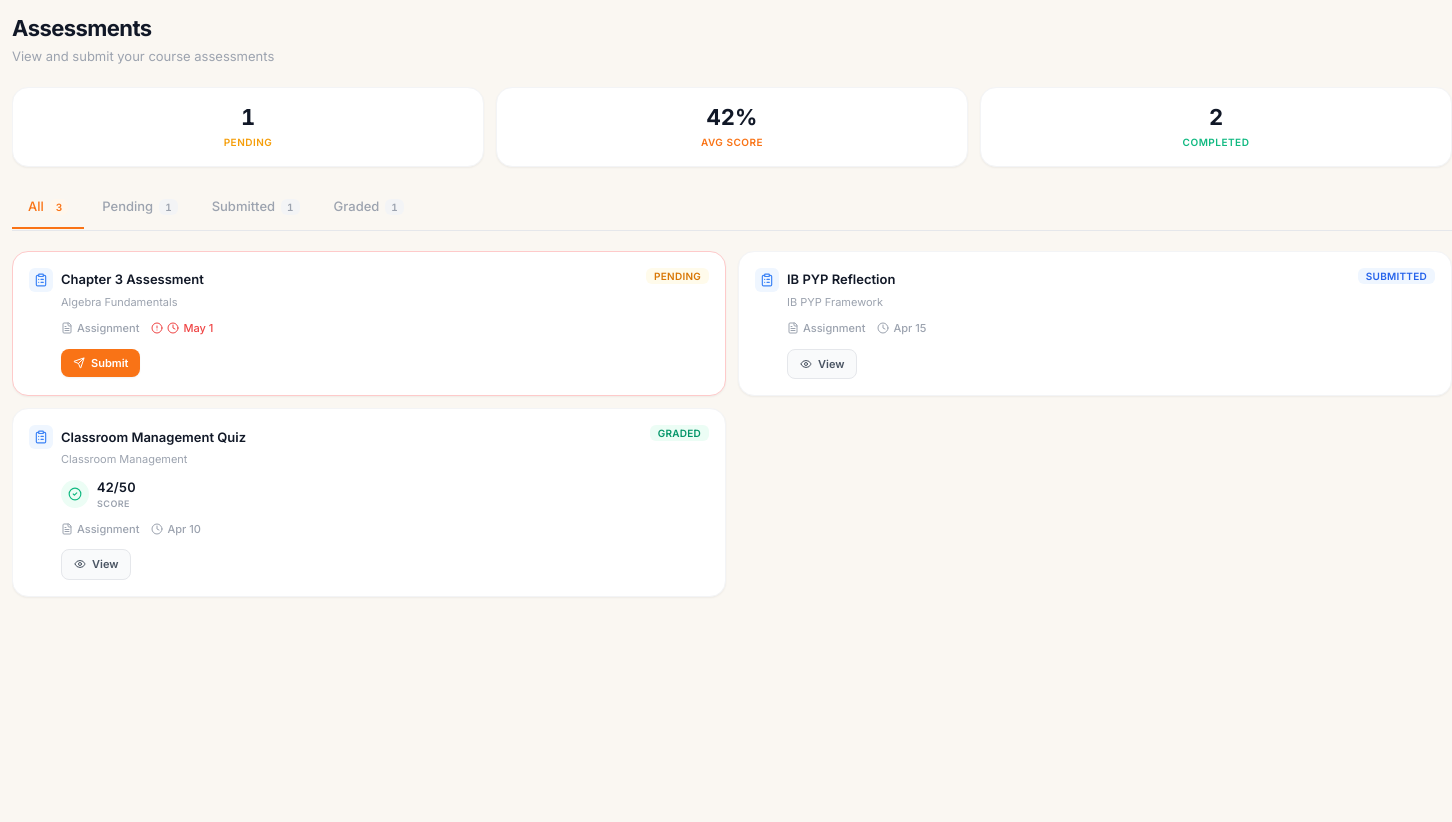
Scenario: AssignmentsPage › Tab filtering › clicking "Graded" tab shows only the graded assignment
Expected: the heading "Classroom Management Quiz" is shown, [61,429,246,445]
Click the button "Graded1": x=369, y=208 [318,187,420,228]
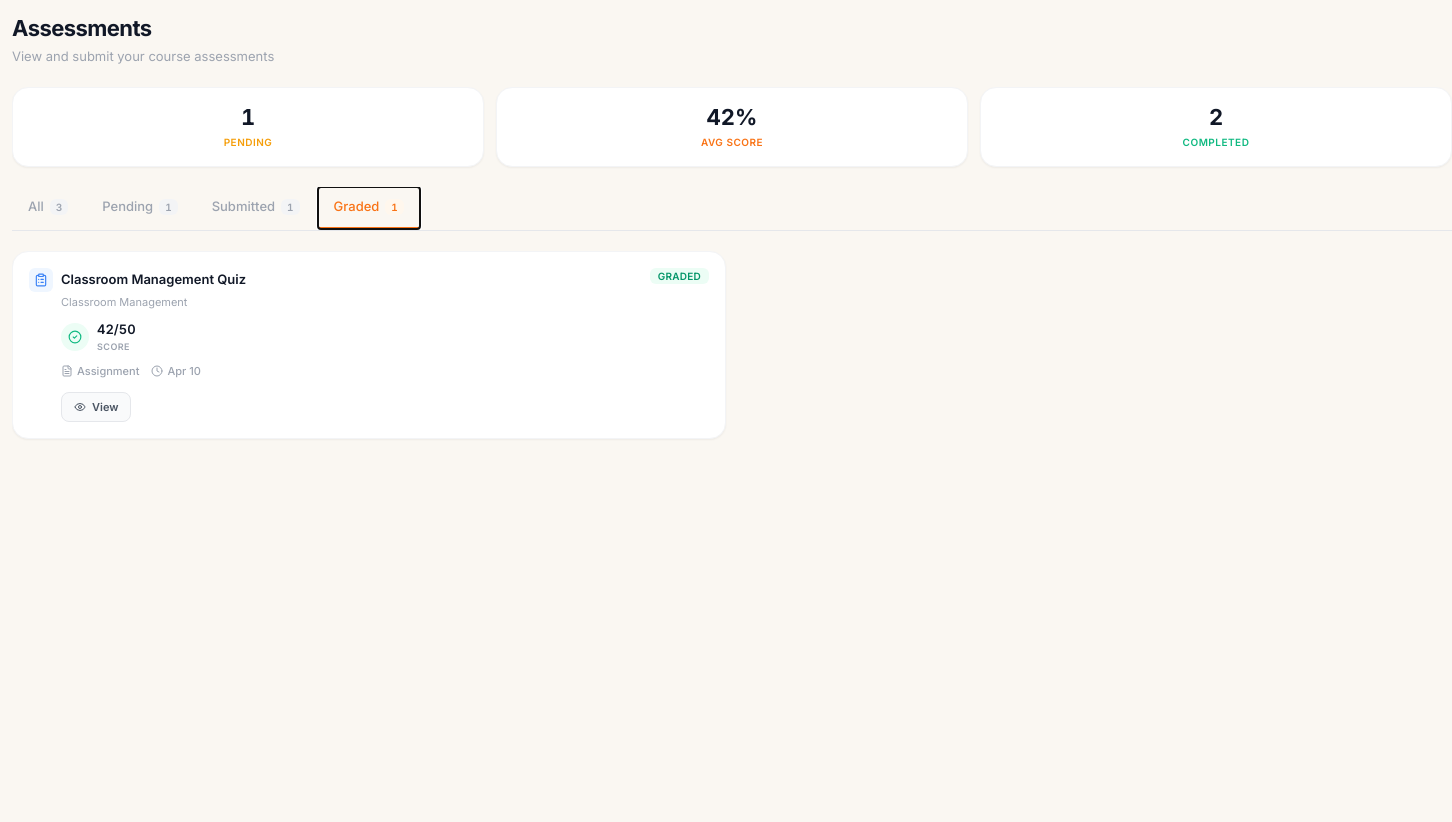
Expected: the heading "Classroom Management Quiz" is shown, [61,271,246,288]
Result: the heading "Chapter 3 Assessment" is gone
Result: the heading "IB PYP Reflection" is gone
